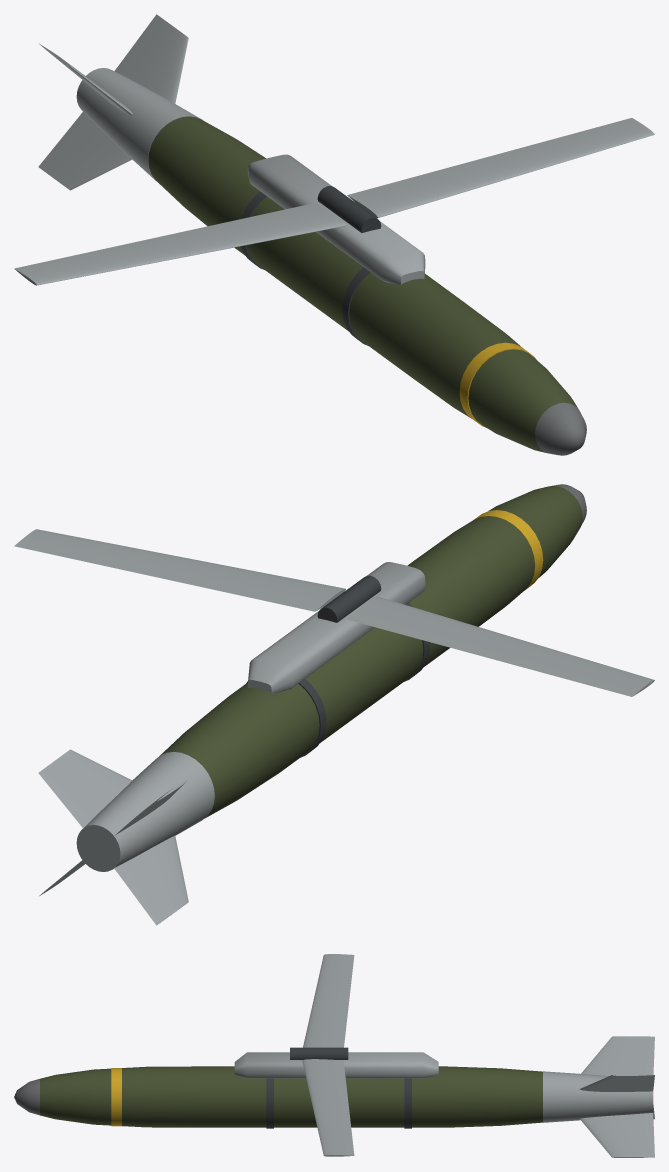
The model's file is kab.glb.
3 renders of one model, top to bottom at view 1: azimuth 30°, elevation 25°; view 2: azimuth 150°, elevation 25°; view 3: azimuth 270°, elevation 25°, orthographic. The views are drawn at different scales.
Parts seen in each view (by area): view 1: kab; view 2: kab; view 3: kab.
Part boxes in pixels (x1,y1,x2,y2): kab: [14, 14, 654, 455]; kab: [14, 484, 654, 925]; kab: [14, 954, 654, 1157].
Bounding box in the file's own units: 3.1 × 0.6519 × 4.18.
